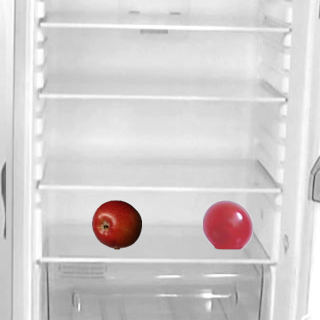Apple Braeburn: (91, 199, 141, 249)
Redcurrant: (202, 199, 252, 249)
